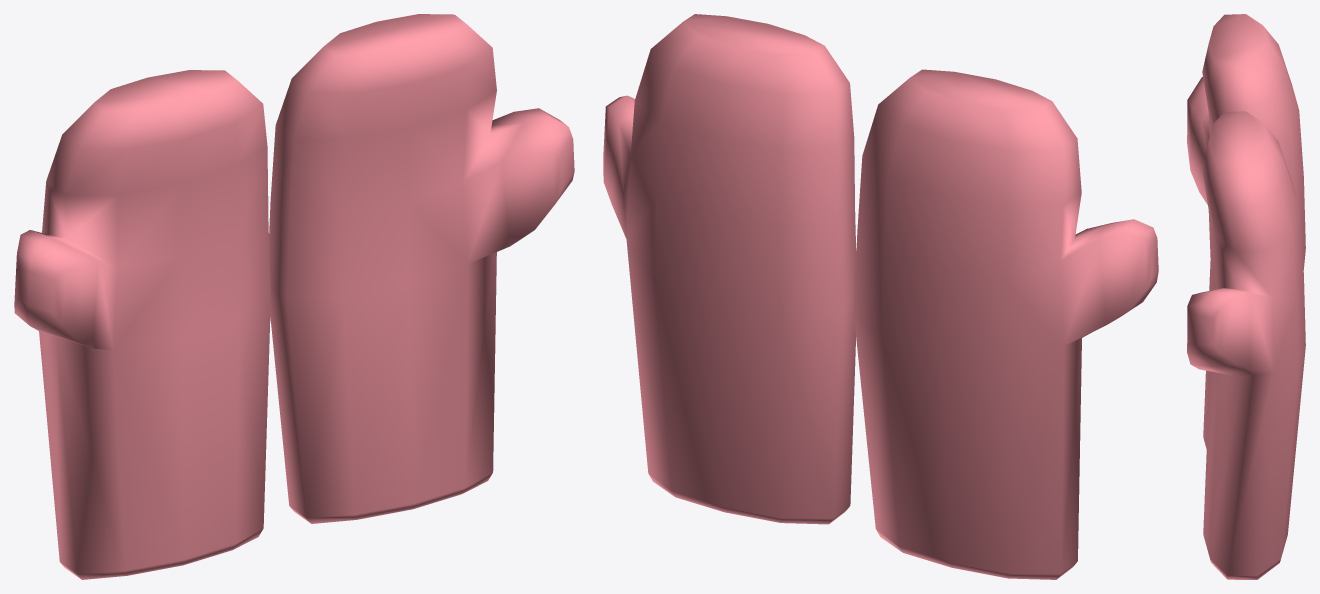
The model's file is cooking_assets_oven_mitts.glb.
3 renders of one model, left to right at view 1: azimuth 30°, elevation 25°; view 2: azimuth 150°, elevation 25°; view 3: azimuth 270°, elevation 25°, orthographic. The views are drawn at different scales.
Parts seen in each view (by area): view 1: insulator_Cylinder.183_Cylinder.010; view 2: insulator_Cylinder.183_Cylinder.010; view 3: insulator_Cylinder.183_Cylinder.010.
Part boxes in pixels (x1,y1,x2,y2): insulator_Cylinder.183_Cylinder.010: [14, 14, 574, 579]; insulator_Cylinder.183_Cylinder.010: [603, 14, 1158, 579]; insulator_Cylinder.183_Cylinder.010: [1187, 14, 1305, 579].
Bounding box in the file's own units: 5.71 × 4.61 × 1.23.
Materials: 1 (1 with a texture image).
